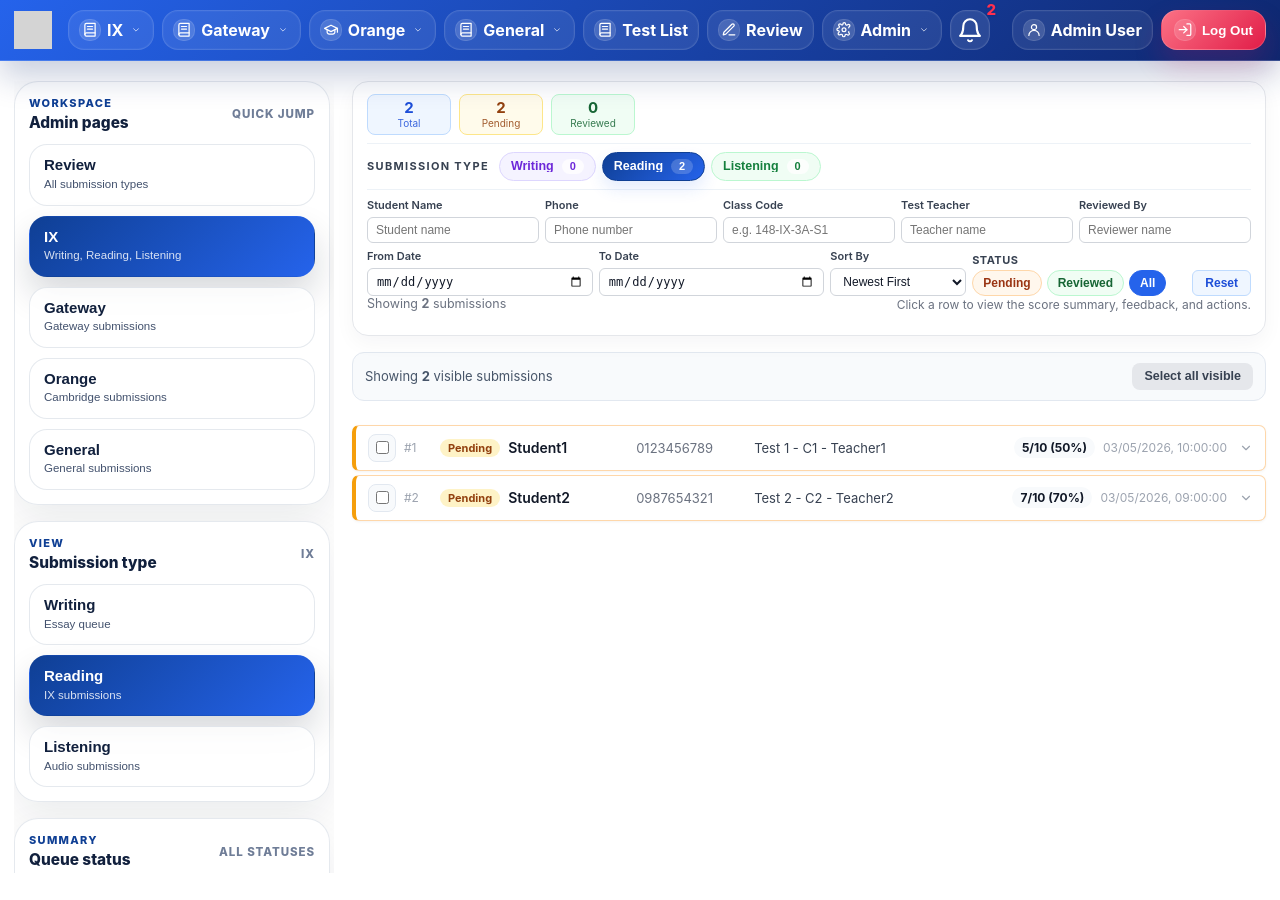
admins can select many visible submissions and bulk delete them
Expected: the text "Student1" is shown, [508,439,567,456]
Expected: the text "Student2" is shown, [508,489,570,506]
Step 1. Click the checkbox named "Select submission #1" → (382, 448), box [376,441,389,454]
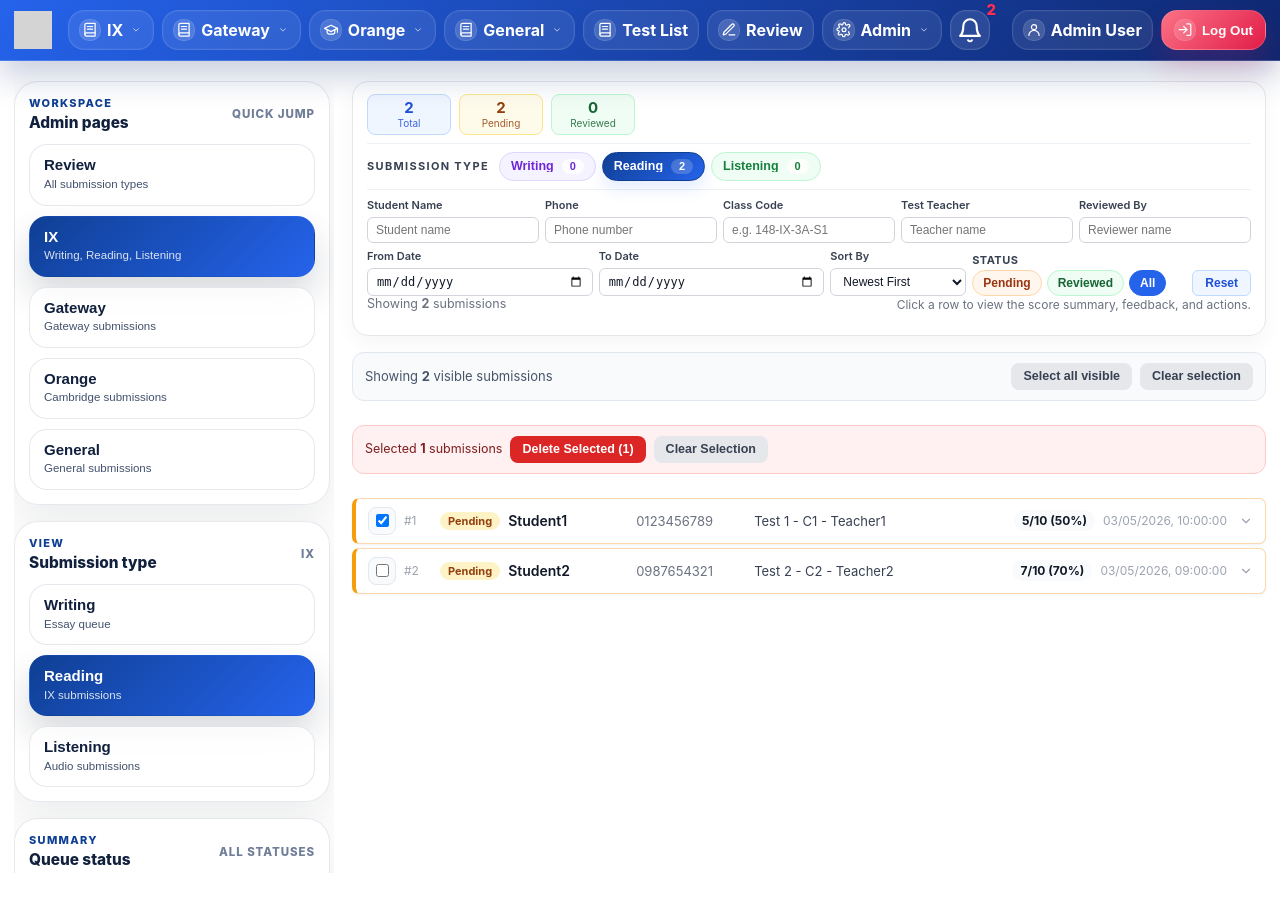
Step 2. Click the checkbox named "Select submission #2" → (382, 571), box [376,564,389,577]
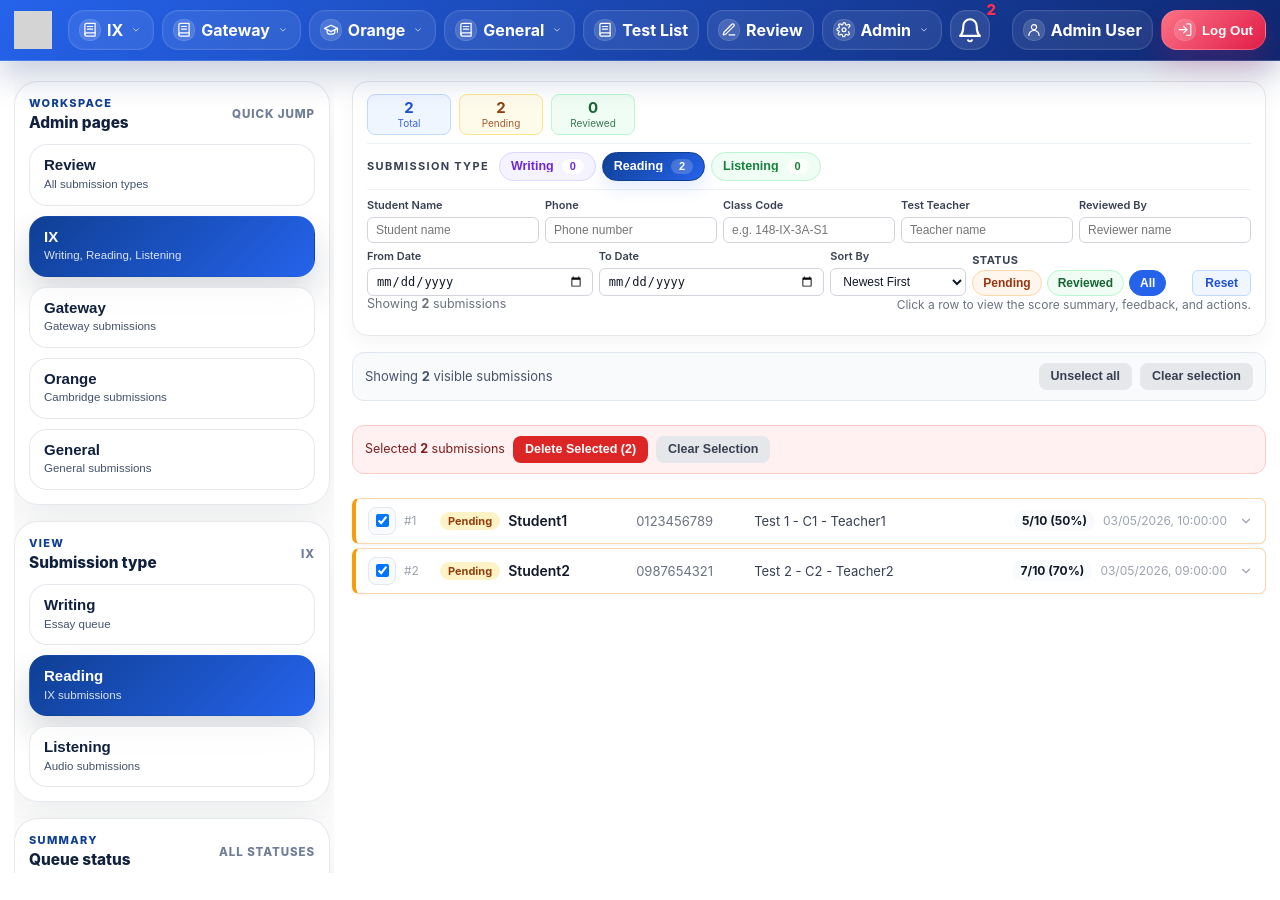
Step 3. Click the button "Delete Selected (2)" → (580, 449), box [513,436,648,463]
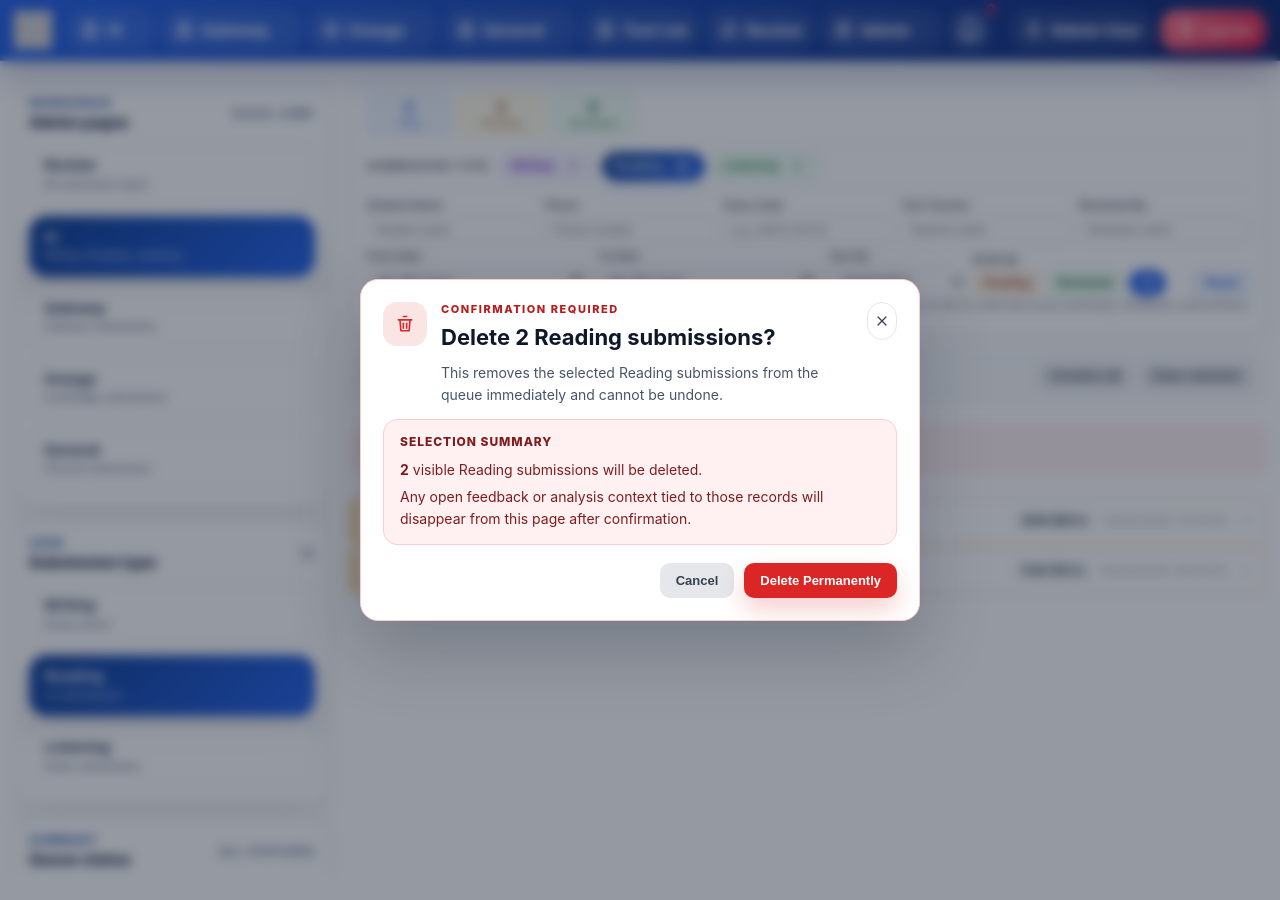
Step 4. Click the button "Delete Permanently" → (821, 580), box [744,563,897,598]
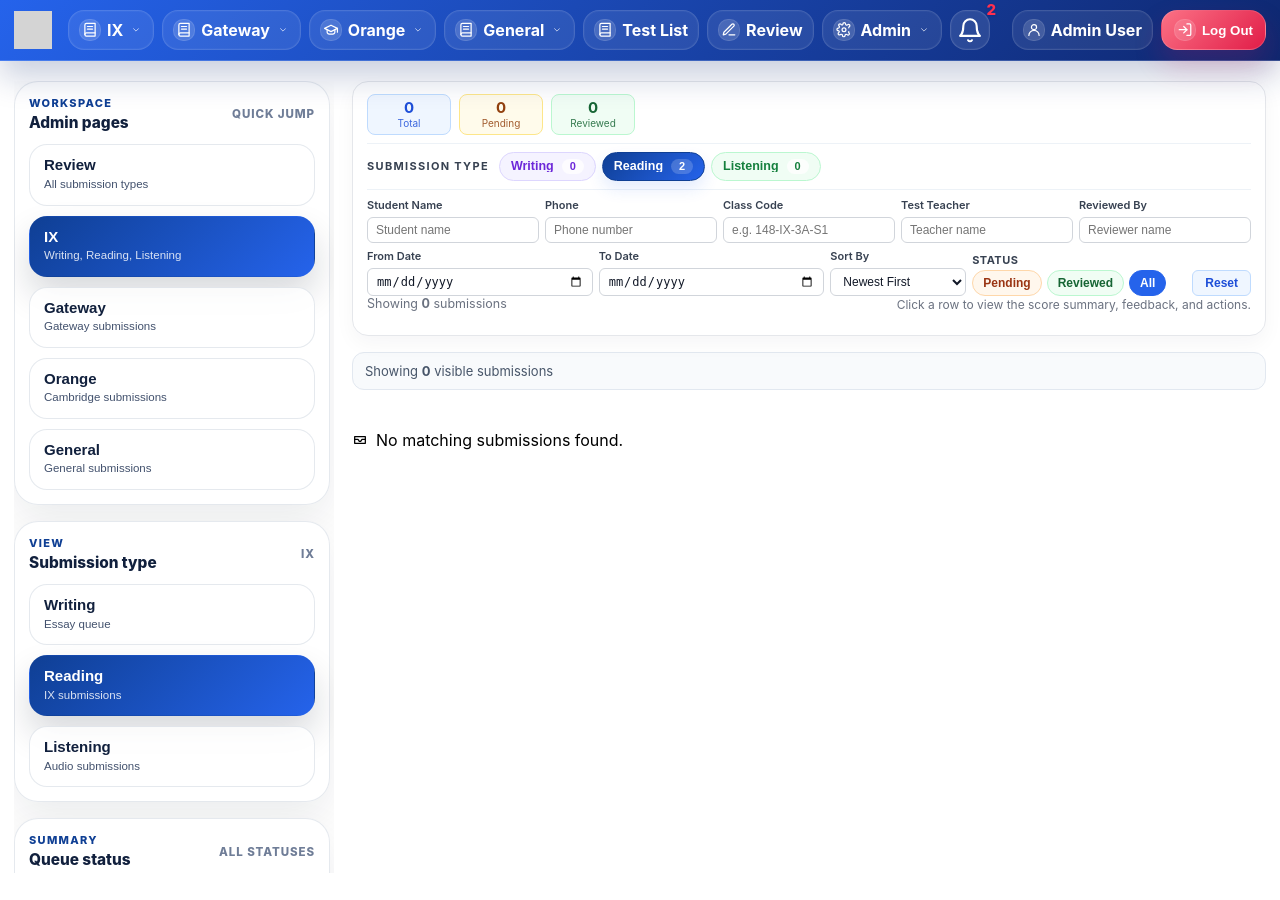
Expected: the text "Student2" is not shown
Expected: the text "Student1" is gone
